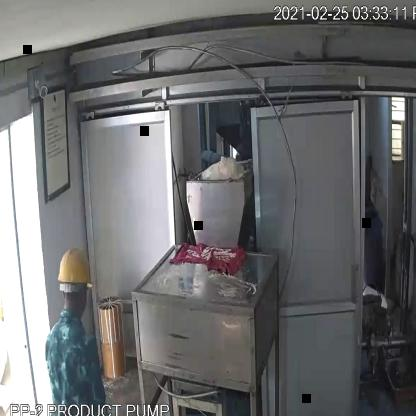helmet: (54, 242, 92, 290)
